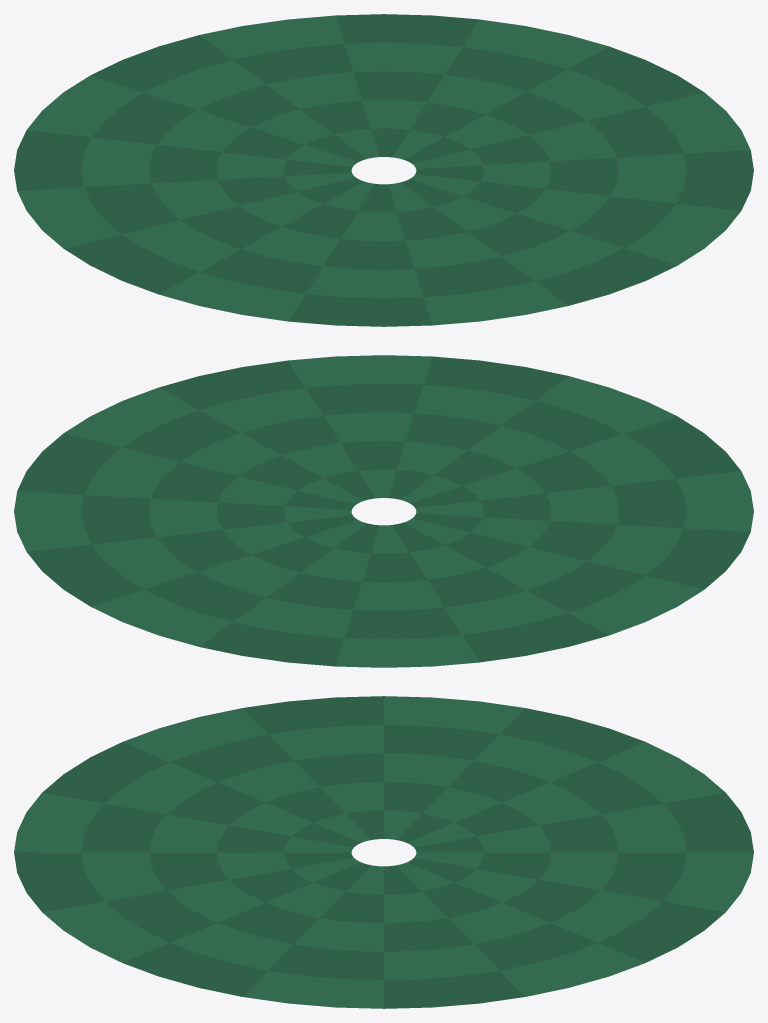
The model's file is W3_Ground_Skirt.fbx.
The picture shows the model from 3 angles, top to bottom: view 1: azimuth 30°, elevation 25°; view 2: azimuth 150°, elevation 25°; view 3: azimuth 270°, elevation 25°; orthographic projection.
Parts seen in each view (by area): view 1: W3_Ground_Skirt; view 2: W3_Ground_Skirt; view 3: W3_Ground_Skirt.
Part boxes in pixels (x1,y1,x2,y2): W3_Ground_Skirt: [14, 14, 753, 326]; W3_Ground_Skirt: [14, 355, 753, 667]; W3_Ground_Skirt: [14, 696, 753, 1008].
Bounding box in the file's own units: 6400 × 2.26 × 6400.
